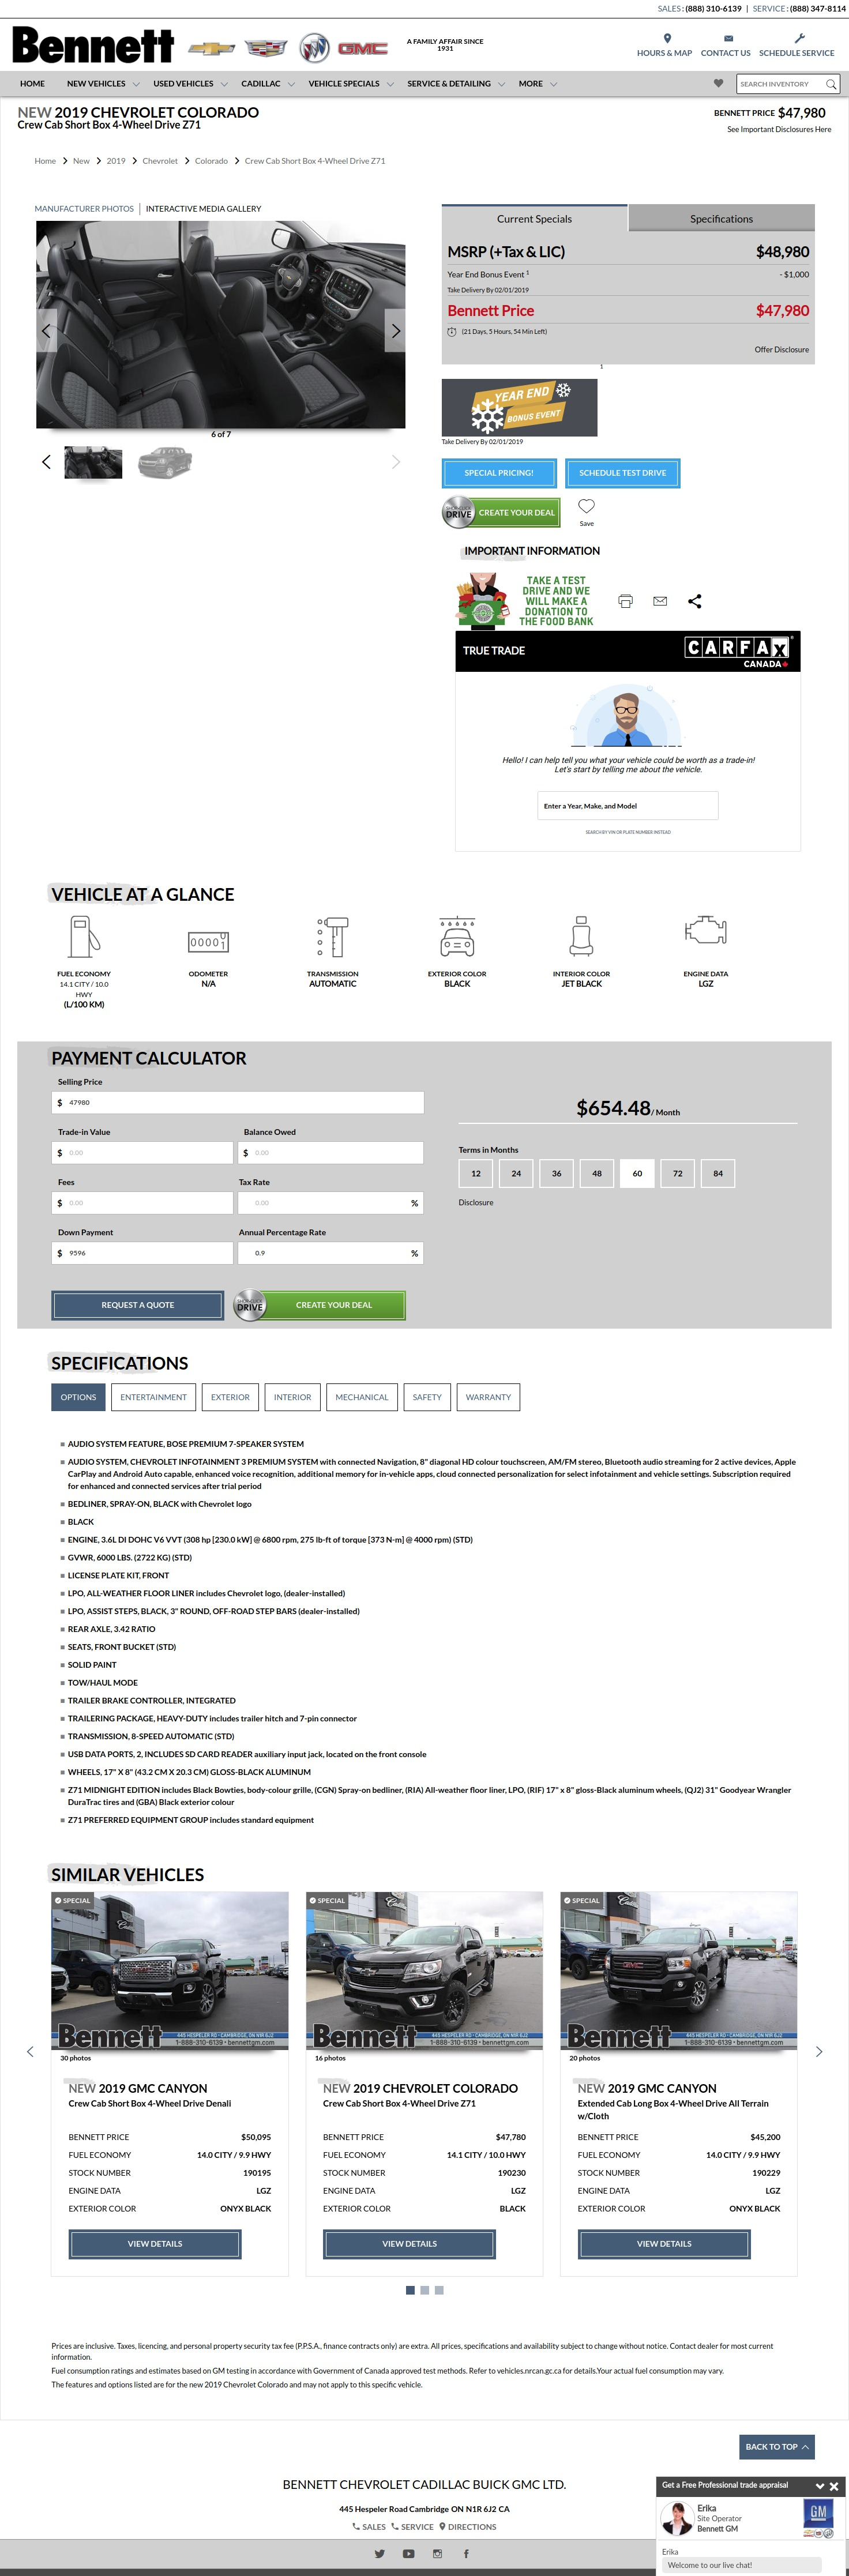car: (391, 455, 402, 470)
